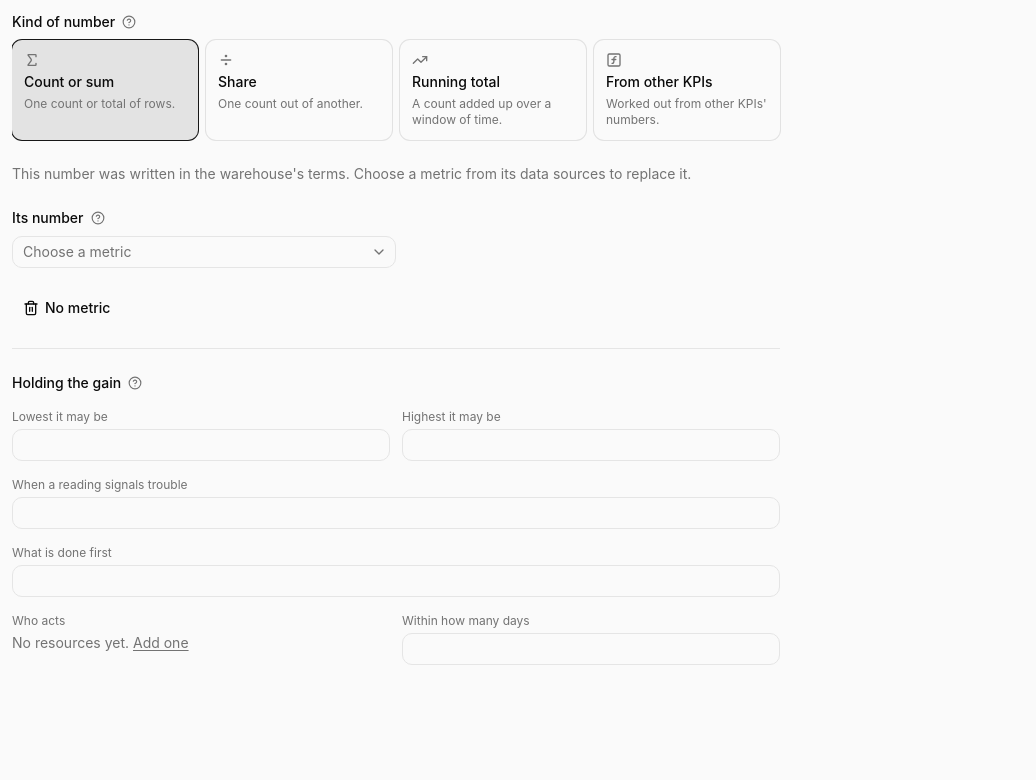
Scenario: how an indicator is computed › replaces a number written in the warehouse's terms once a metric is chosen
This screenshot has width=1036, height=780.
Check: the text "This number was written in the warehouse's terms. Choose a metric from its data sources to replace it." is shown, box [12,165,691,182]
Step 1. Click the dropdown named "Its number" → (77, 252), box [12,236,396,268]
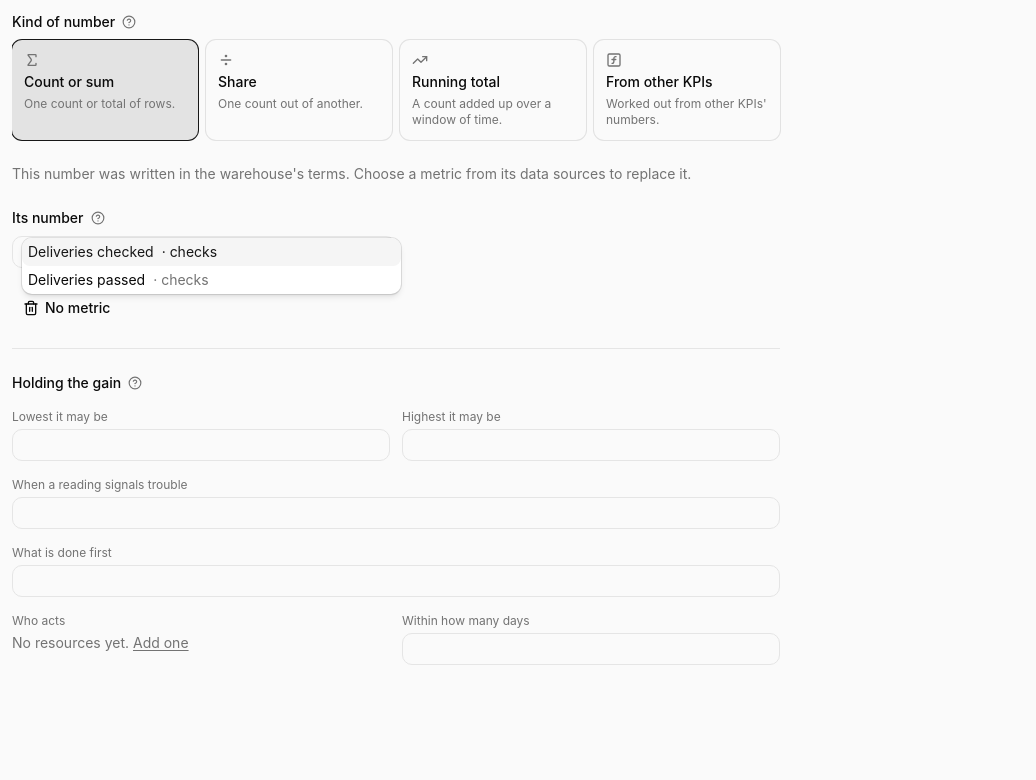
Step 2. Click the option "Deliveries checked · checks" → (212, 252), box [22,238,401,266]
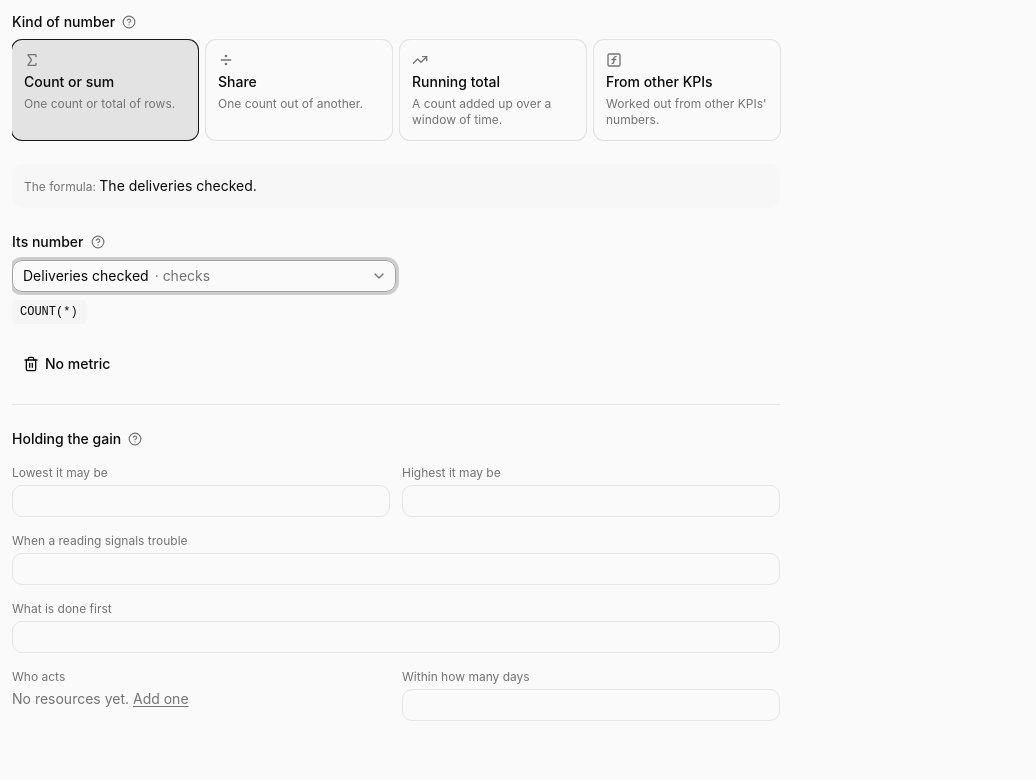
Check: the text "This number was written in the warehouse's terms. Choose a metric from its data sources to replace it." is gone
